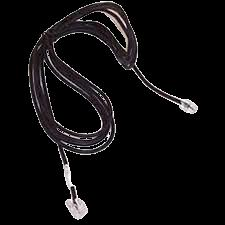cable: (28, 1, 199, 221)
